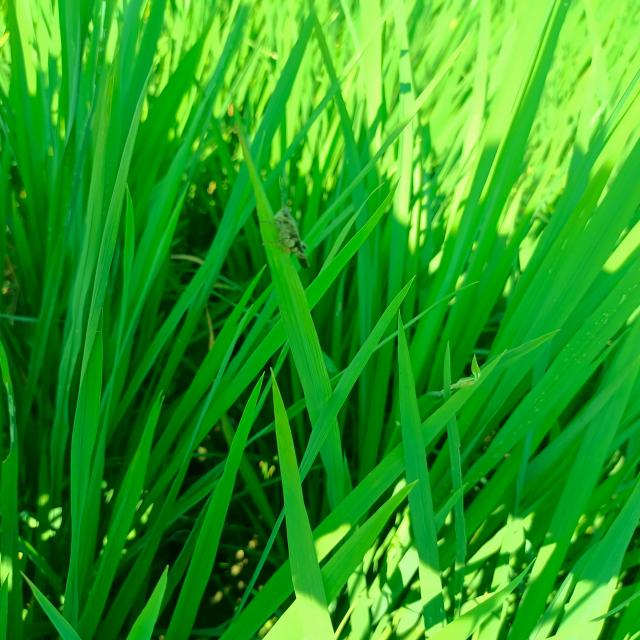belalang pada tanaman padi: (271, 203, 311, 270)
